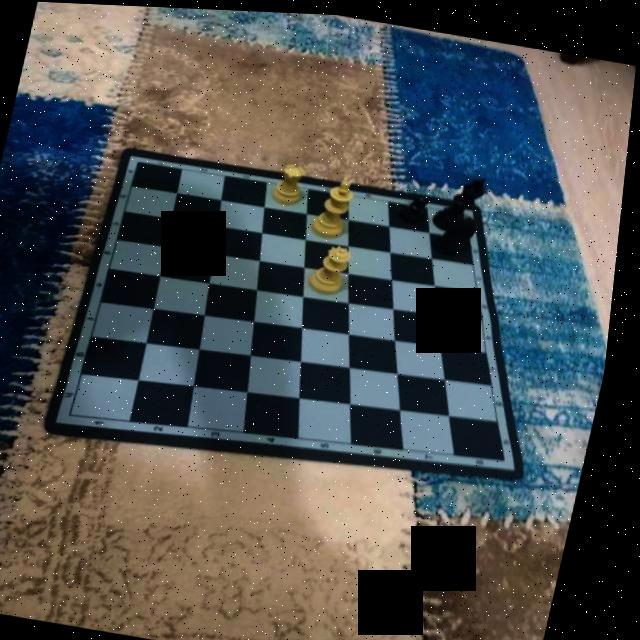chess-table-corners: (483, 436, 539, 474), (56, 394, 102, 431), (118, 146, 162, 178), (452, 194, 489, 224)
